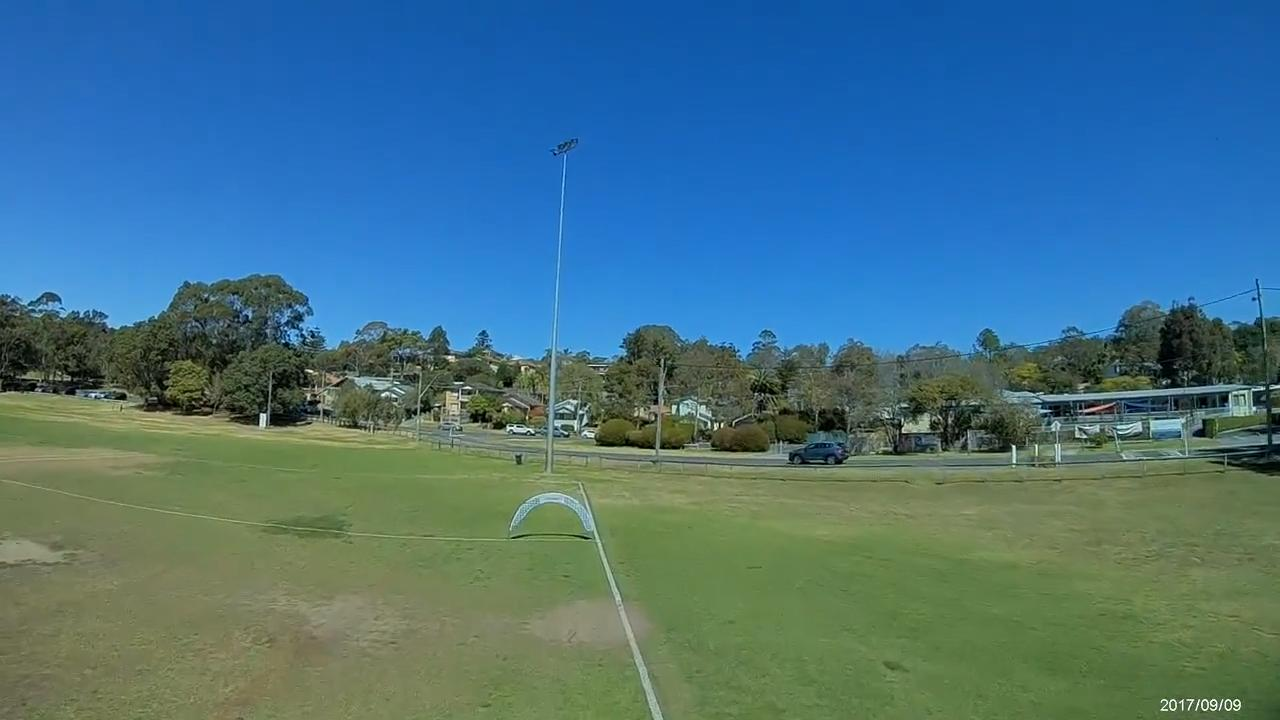gate: (508, 491, 594, 535)
